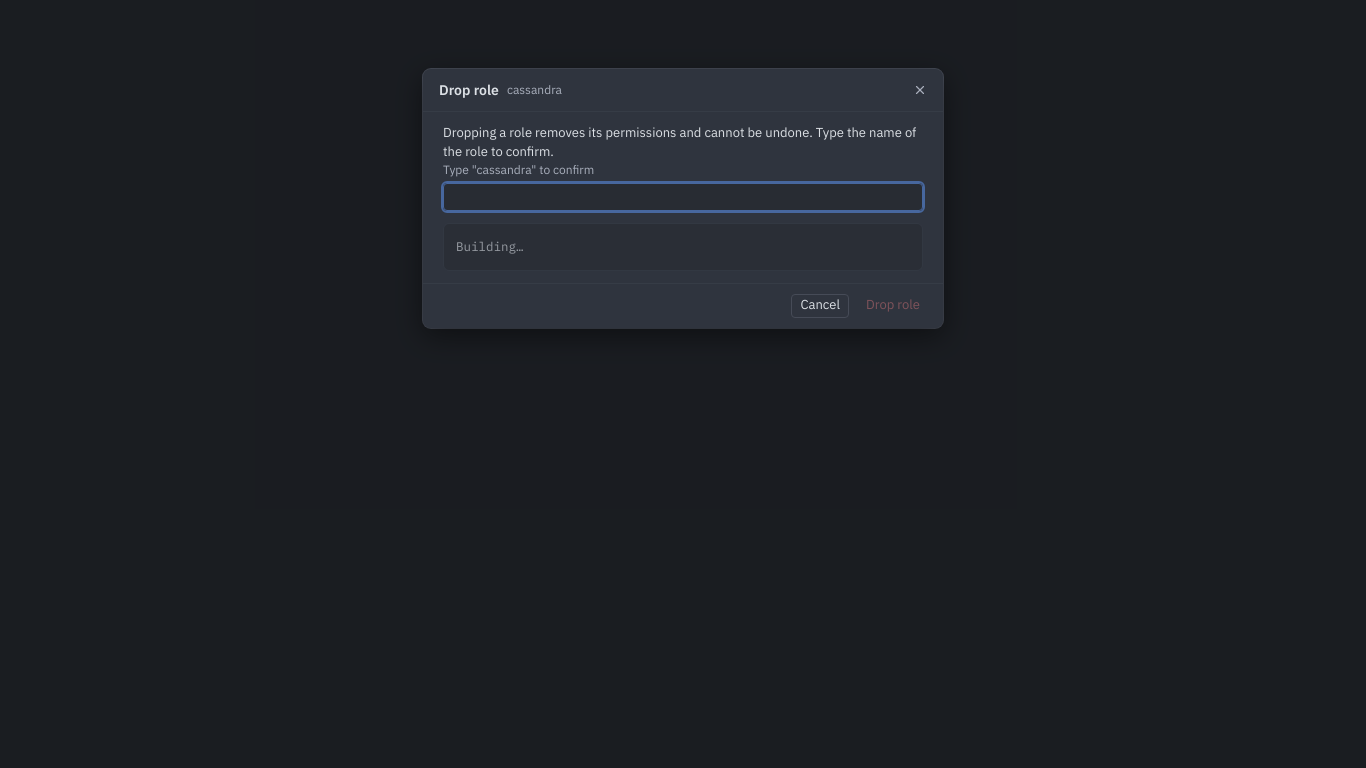
Scenario: DropRoleDialog › blocks dropping the connected role
Step 1. Type "cassandra" into the field labelled "Type \"cassandra\" to confirm" → point(683, 197), box x1=443 y1=183 x2=923 y2=211
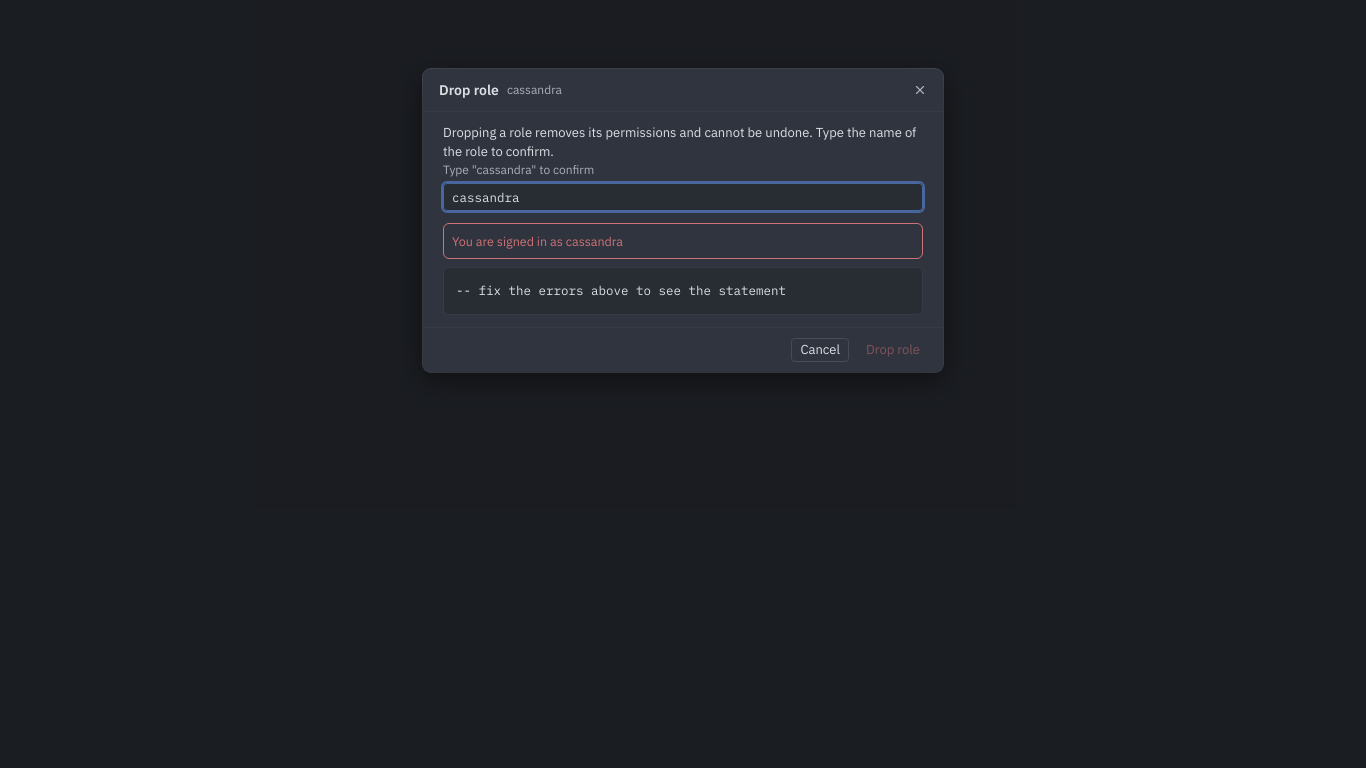
Check: the button "Drop role" is disabled, box x1=857 y1=338 x2=929 y2=362
Check: the list item "You are signed in as cassandra" is shown, box x1=452 y1=233 x2=623 y2=249
